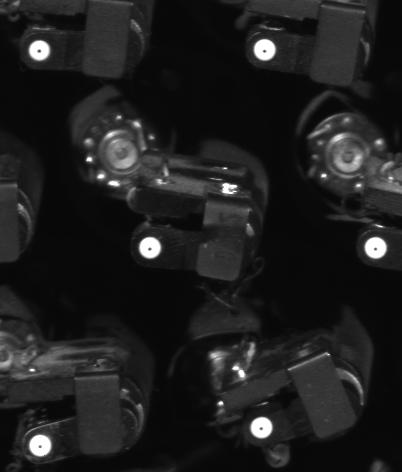fiber: (25, 428, 57, 461), (246, 410, 278, 442), (362, 231, 392, 263), (136, 234, 166, 262), (25, 37, 53, 65), (250, 37, 280, 63)
